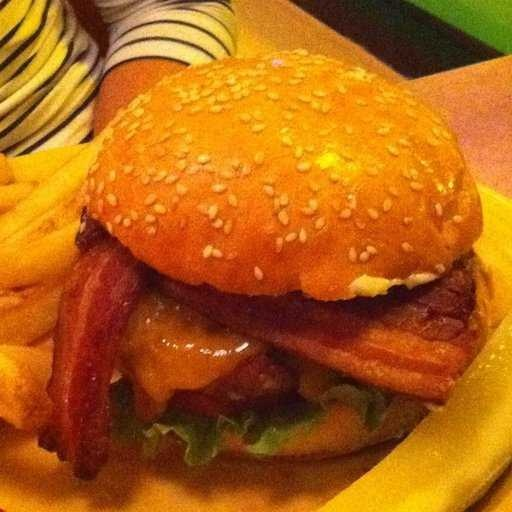hamburger: (47, 67, 459, 444)
